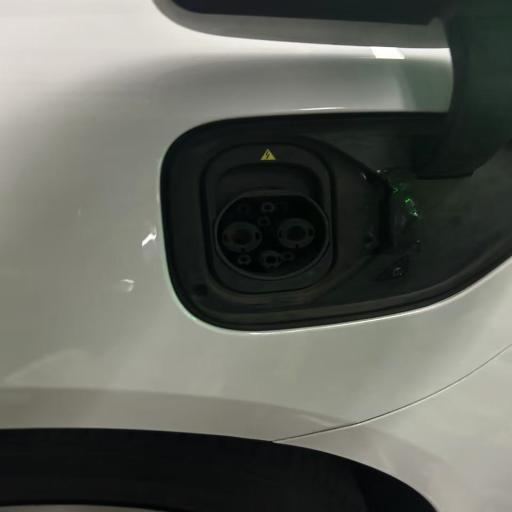DC_hole: (276, 216, 315, 249), (222, 221, 261, 250)
PE: (257, 251, 283, 270)
charging_port: (213, 188, 333, 279)
